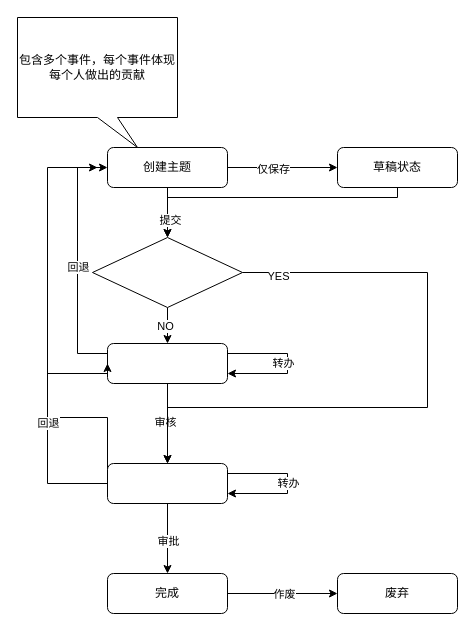
The diagram is 475 pixels wide and 631 high, and some of its shapes have lost their labels. Each missing label, with the centre of its shape:
"待审批" belongs at point (167, 483).
"待审核" belongs at point (167, 363).
"记录人和审核人是否一致" belongs at point (167, 272).
